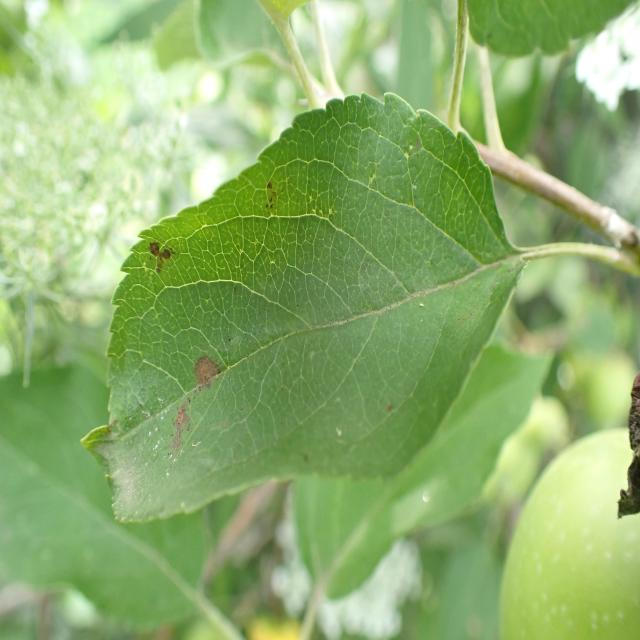frog-eye-leaf-spot: (80, 89, 525, 524)
